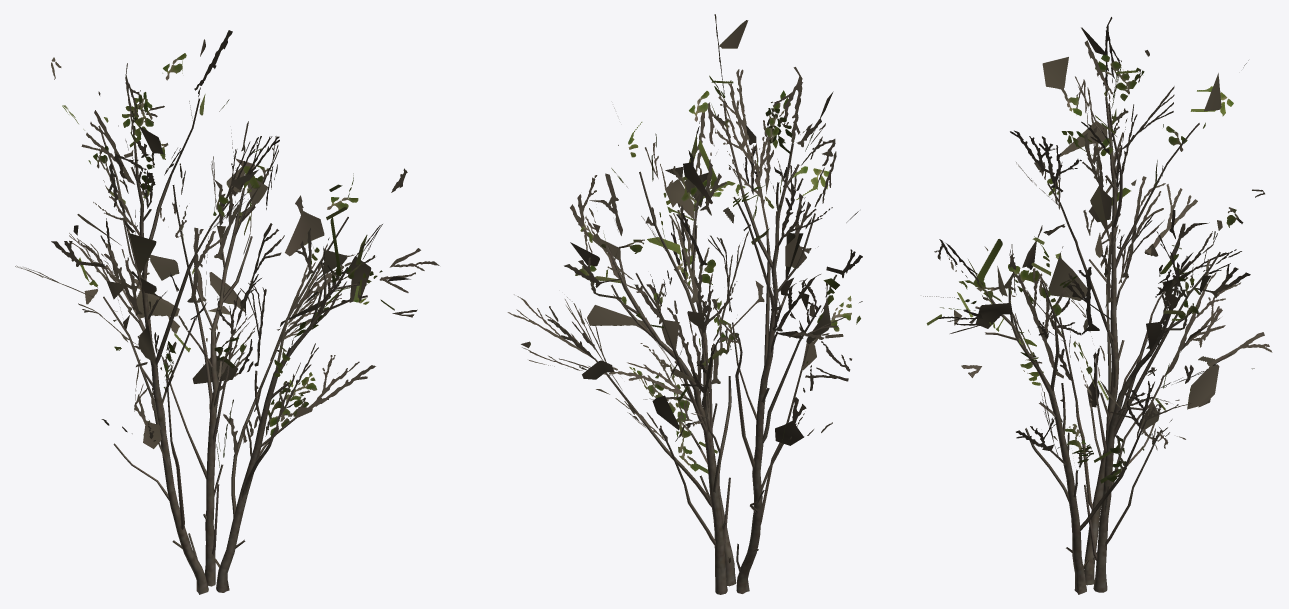
The model's file is SM_BlackAlder_Forest_09_PP_LOD4.gltf.
3 views of the same model, side by side, from view 1: azimuth 30°, elevation 25°; view 2: azimuth 150°, elevation 25°; view 3: azimuth 270°, elevation 25° (orthographic). The views are drawn at different scales.
Visible parts, largest first — view 1: SM_BlackAlder_Forest_09_PP; view 2: SM_BlackAlder_Forest_09_PP; view 3: SM_BlackAlder_Forest_09_PP.
Part boxes in pixels (bbox=[...]): SM_BlackAlder_Forest_09_PP: bbox=[15, 30, 439, 594]; SM_BlackAlder_Forest_09_PP: bbox=[507, 14, 862, 594]; SM_BlackAlder_Forest_09_PP: bbox=[923, 17, 1272, 594].
Bounding box in the file's own units: 3.94 × 6.01 × 3.56.
2 materials, 2 textured.
